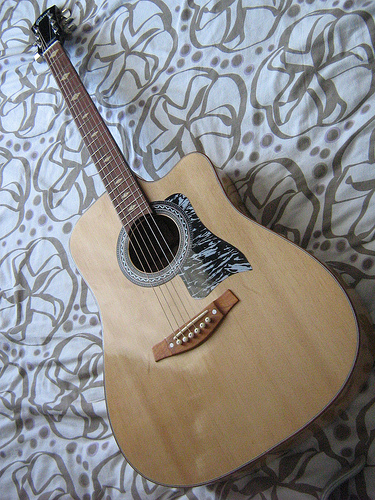guitar: (29, 6, 367, 489)
